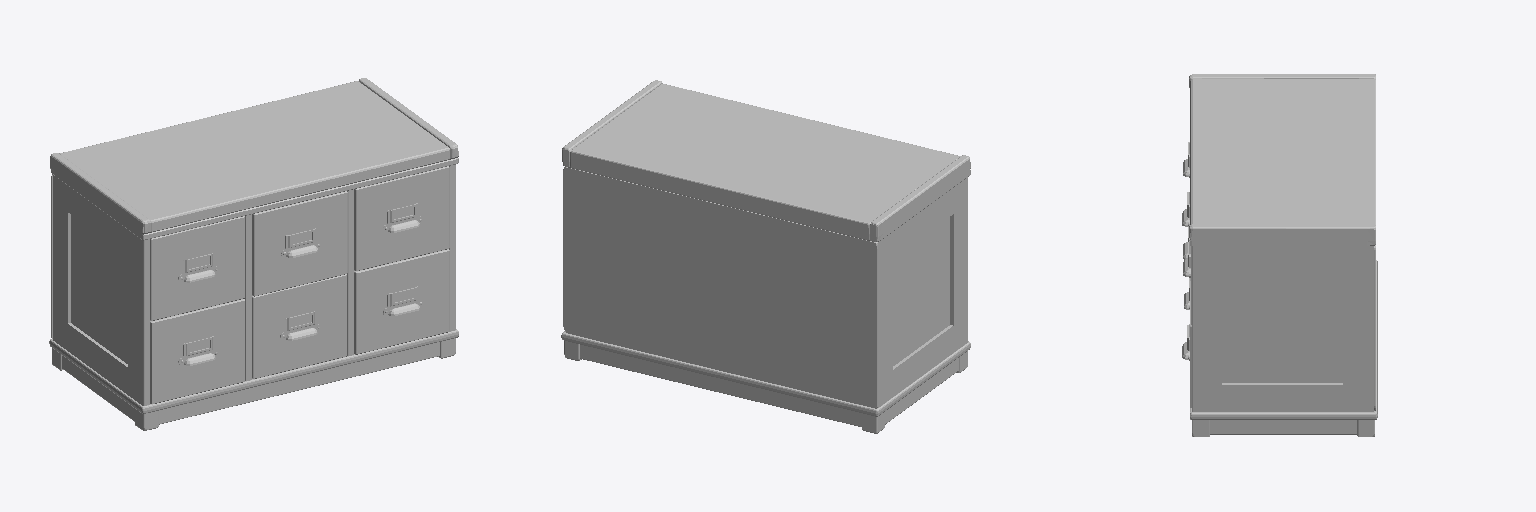
The model's file is vintageWooden.obj.
3 renders of one model, left to right at view 1: azimuth 30°, elevation 25°; view 2: azimuth 150°, elevation 25°; view 3: azimuth 270°, elevation 25°, orthographic.
Visible parts, largest first — view 1: vintage_wooden_drawer_01_body, vintage_wooden_drawer_01_drawer06, vintage_wooden_drawer_01_drawer02, vintage_wooden_drawer_01_drawer03, vintage_wooden_drawer_01_drawer04, vintage_wooden_drawer_01_drawer01, vintage_wooden_drawer_01_drawer05; view 2: vintage_wooden_drawer_01_body; view 3: vintage_wooden_drawer_01_body.
Part boxes in pixels (left/top/right/bottom): vintage_wooden_drawer_01_body: left=49, top=78, right=458, bottom=430; vintage_wooden_drawer_01_drawer06: left=354, top=249, right=449, bottom=354; vintage_wooden_drawer_01_drawer02: left=252, top=191, right=347, bottom=296; vintage_wooden_drawer_01_drawer03: left=354, top=166, right=449, bottom=270; vintage_wooden_drawer_01_drawer04: left=150, top=299, right=244, bottom=403; vintage_wooden_drawer_01_drawer01: left=150, top=216, right=244, bottom=320; vintage_wooden_drawer_01_drawer05: left=252, top=274, right=346, bottom=378; vintage_wooden_drawer_01_body: left=561, top=80, right=970, bottom=433; vintage_wooden_drawer_01_body: left=1189, top=74, right=1377, bottom=436.
Bounding box in the file's own units: 0.8576 × 0.5454 × 0.4574.